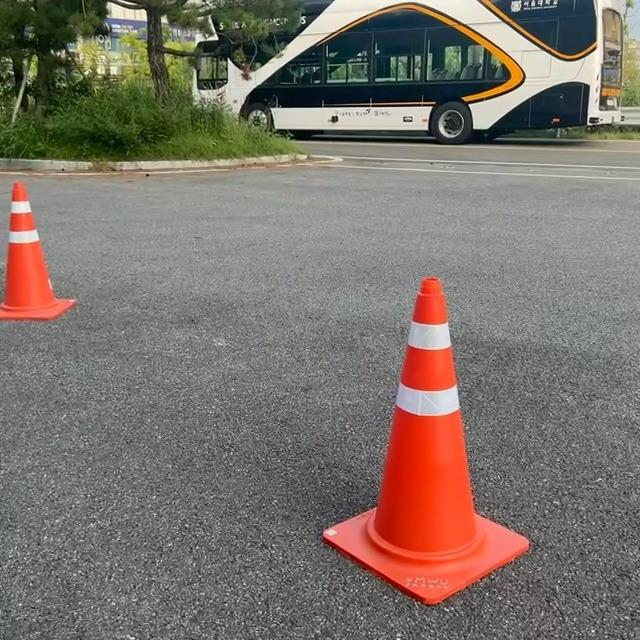fallen_object: (295, 229, 517, 577), (0, 173, 87, 363)
